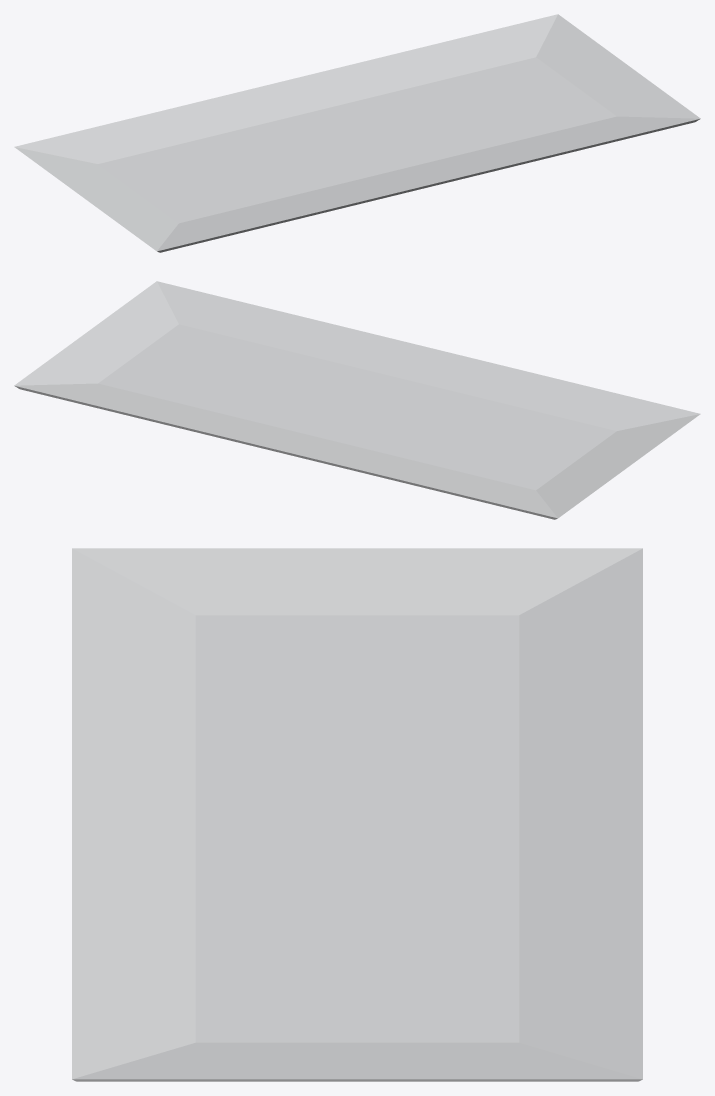
File: Plate_Rectangle.glb
3 renders of one model, top to bottom at view 1: azimuth 30°, elevation 25°; view 2: azimuth 150°, elevation 25°; view 3: azimuth 270°, elevation 25°, orthographic. The views are drawn at different scales.
Parts seen in each view (by area): view 1: plate_rectangle_Cube.022; view 2: plate_rectangle_Cube.022; view 3: plate_rectangle_Cube.022.
Boxes of the visible parts, x1,y1,x2,y2 form: plate_rectangle_Cube.022: (14, 14, 700, 252); plate_rectangle_Cube.022: (14, 281, 700, 519); plate_rectangle_Cube.022: (72, 548, 642, 1081).
Size of the model in its own units: 4.22 by 0.144 by 1.92.
Materials: 1 (1 with a texture image).
